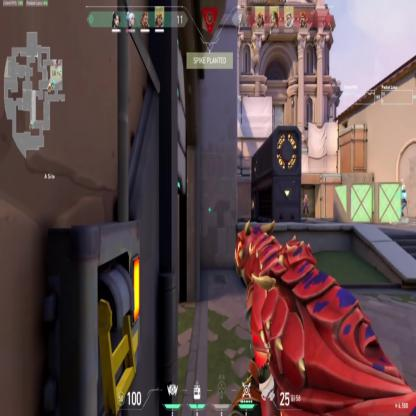enemy: (302, 192, 309, 216)
enemy_head: (305, 193, 307, 199)
